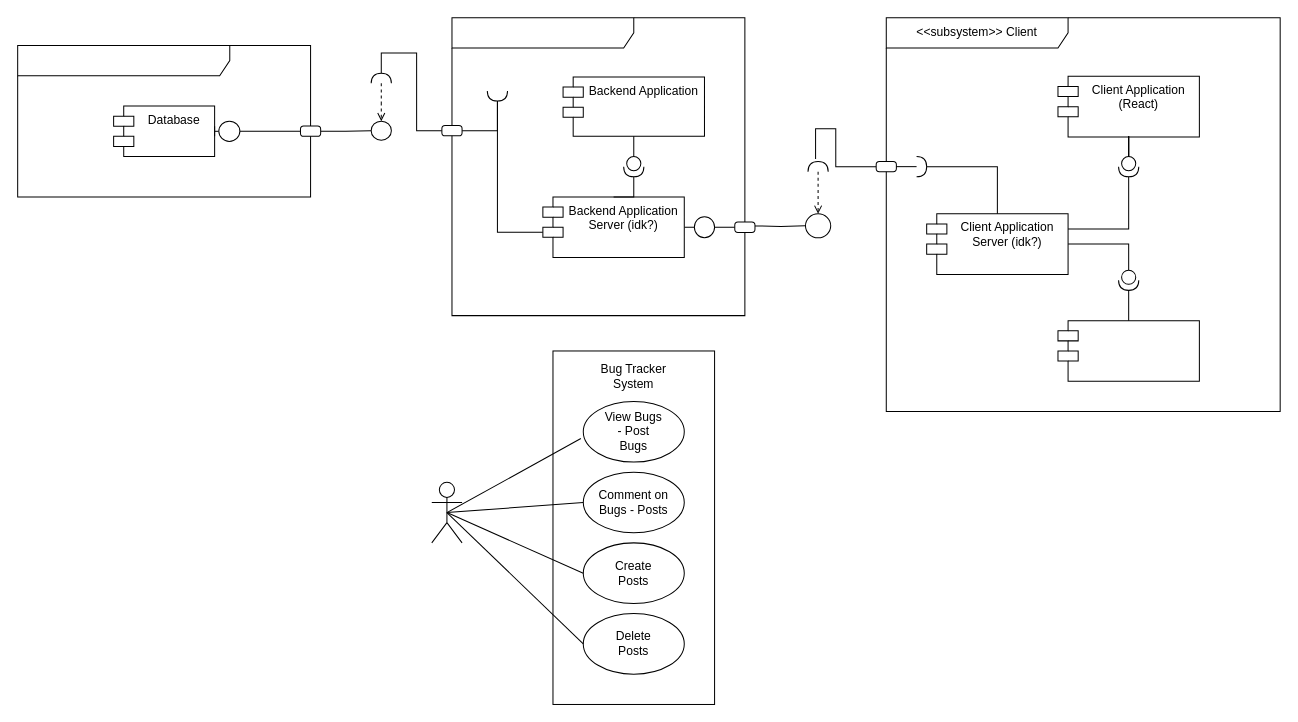
The diagram is 1298 pixels wide and 722 high, and some of its shapes have lost their labels. Here are the shapes that lost their labels. From the top down, the box of each, then its label:
(17, 44, 311, 197): <<subsystem>> Data Access Layer
(451, 17, 745, 316): <<subsystem>> App Logic
(1057, 320, 1199, 381): Web Browser
(431, 481, 462, 543): User
